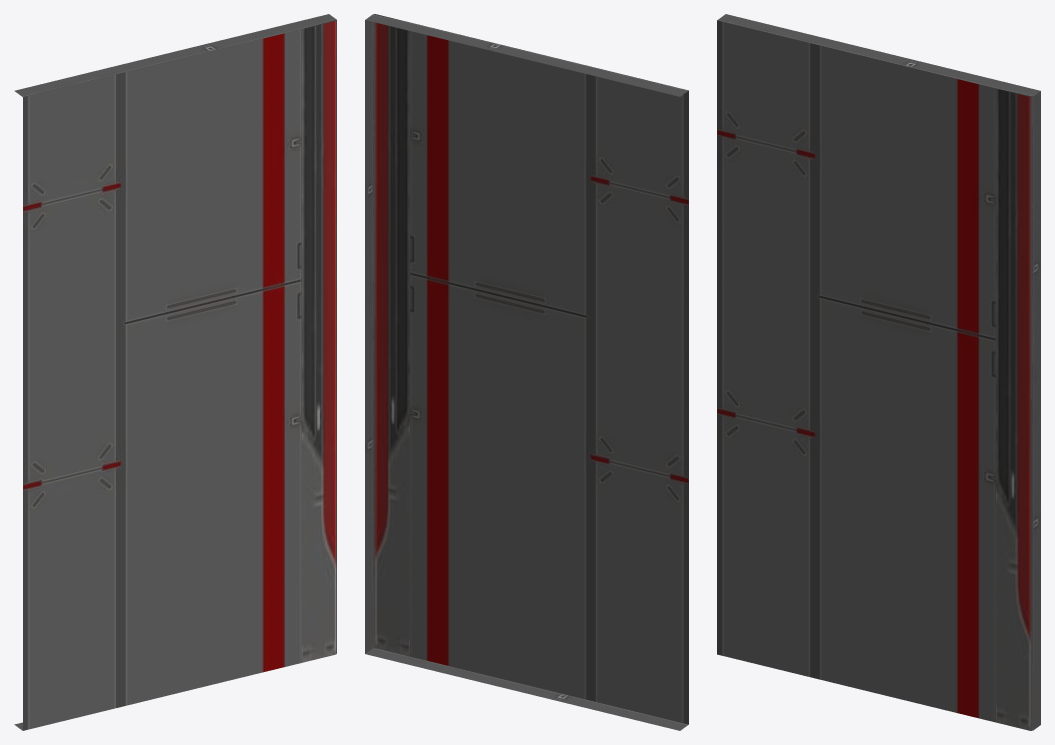
Rendered from sf_door_metal.glb.
3 renders of one model, left to right at view 1: azimuth 30°, elevation 25°; view 2: azimuth 150°, elevation 25°; view 3: azimuth 330°, elevation 25°, orthographic.
Visible parts, largest first — view 1: Door_Metal; view 2: Door_Metal; view 3: Door_Metal.
Boxes of the visible parts, left/top/right/bottom form: Door_Metal: left=14, top=14, right=336, bottom=730; Door_Metal: left=365, top=14, right=688, bottom=730; Door_Metal: left=717, top=14, right=1040, bottom=730.
Bounding box in the file's own units: 2.11 × 4.05 × 0.1016.
2 materials, 2 textured.
